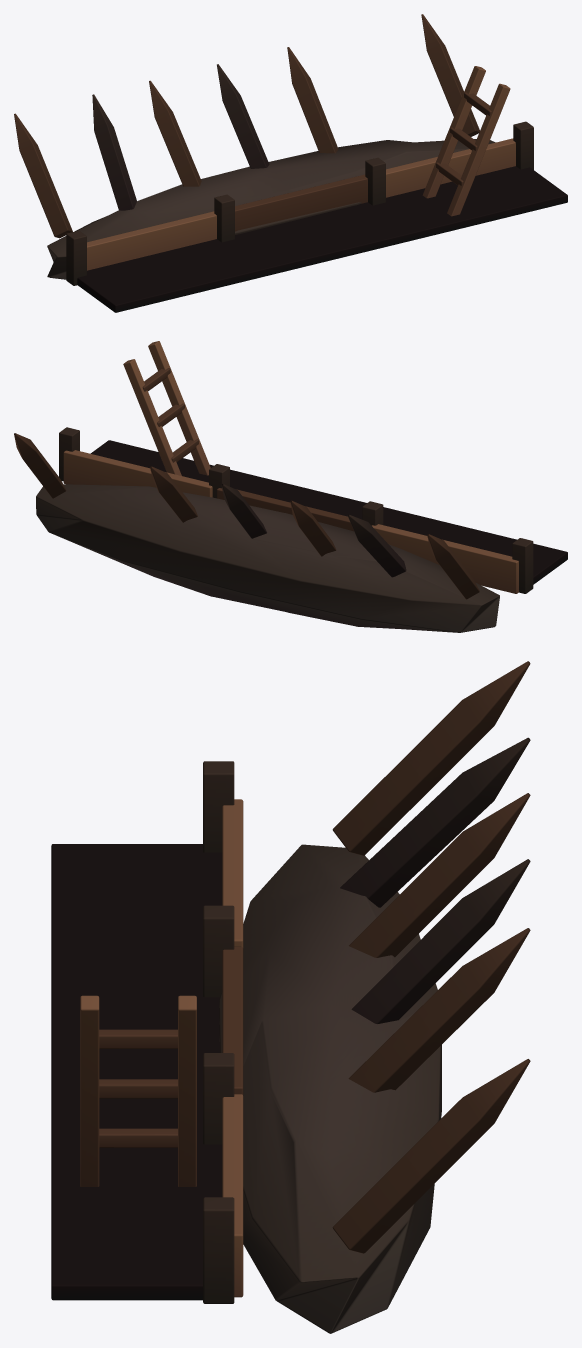
Rendered from field_trench.glb.
3 renders of one model, top to bottom at view 1: azimuth 30°, elevation 25°; view 2: azimuth 150°, elevation 25°; view 3: azimuth 270°, elevation 25°, orthographic. The views are drawn at different scales.
Visible parts, largest first — view 1: field_trench; view 2: field_trench; view 3: field_trench.
Boxes of the visible parts, bbox=[...] form: field_trench: bbox=[14, 14, 567, 312]; field_trench: bbox=[14, 341, 567, 632]; field_trench: bbox=[51, 661, 530, 1333].
Bounding box in the file's own units: 3.05 × 1.07 × 1.37.
